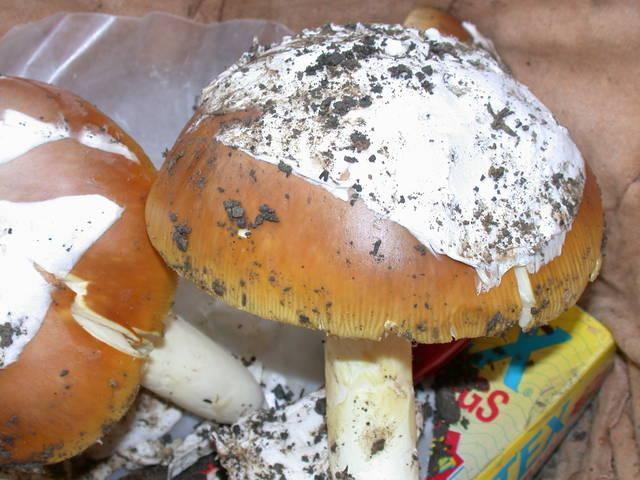Edible Mushroom: (142, 8, 607, 479), (0, 72, 263, 471)
